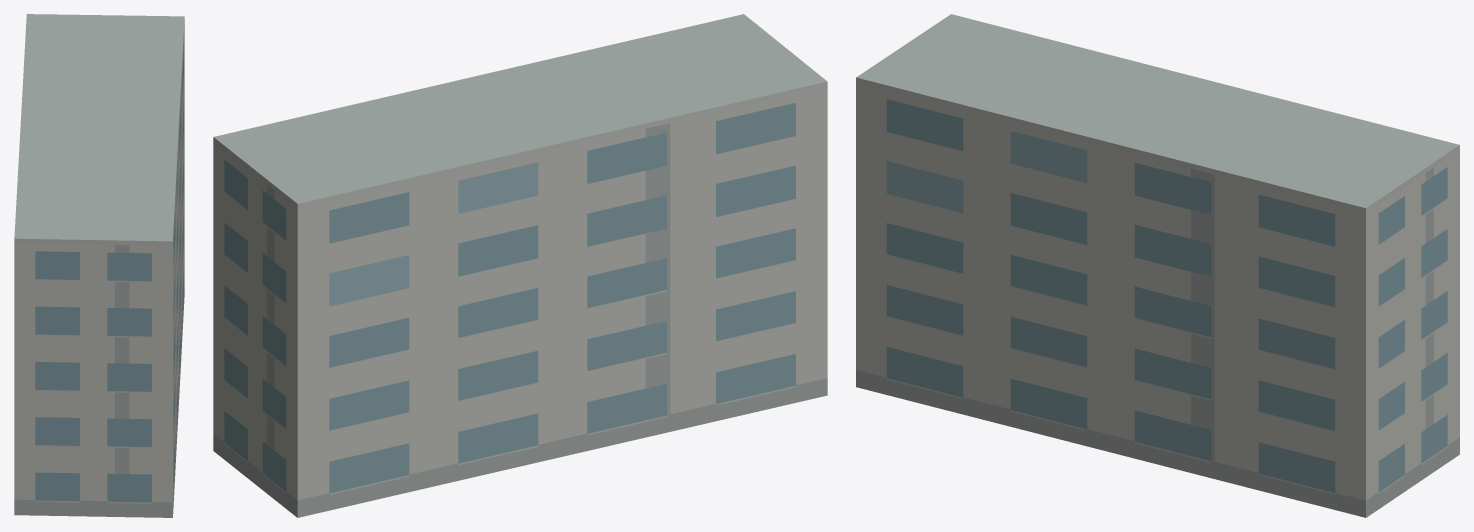
Rendered from survey-upis-33025687.glb.
The picture shows the model from 3 angles, left to right: view 1: azimuth 30°, elevation 25°; view 2: azimuth 150°, elevation 25°; view 3: azimuth 270°, elevation 25°; orthographic projection. The views are drawn at different scales.
Parts seen in each view (by area): view 1: survey-upis-33025687.tmp; view 2: survey-upis-33025687.tmp; view 3: survey-upis-33025687.tmp.
Boxes of the visible parts, box(x1,y1,x2,y2) form: survey-upis-33025687.tmp: box(14, 14, 184, 517); survey-upis-33025687.tmp: box(213, 14, 827, 517); survey-upis-33025687.tmp: box(856, 14, 1459, 517).
Bounding box in the file's own units: 19.92 × 14.8 × 26.16.
